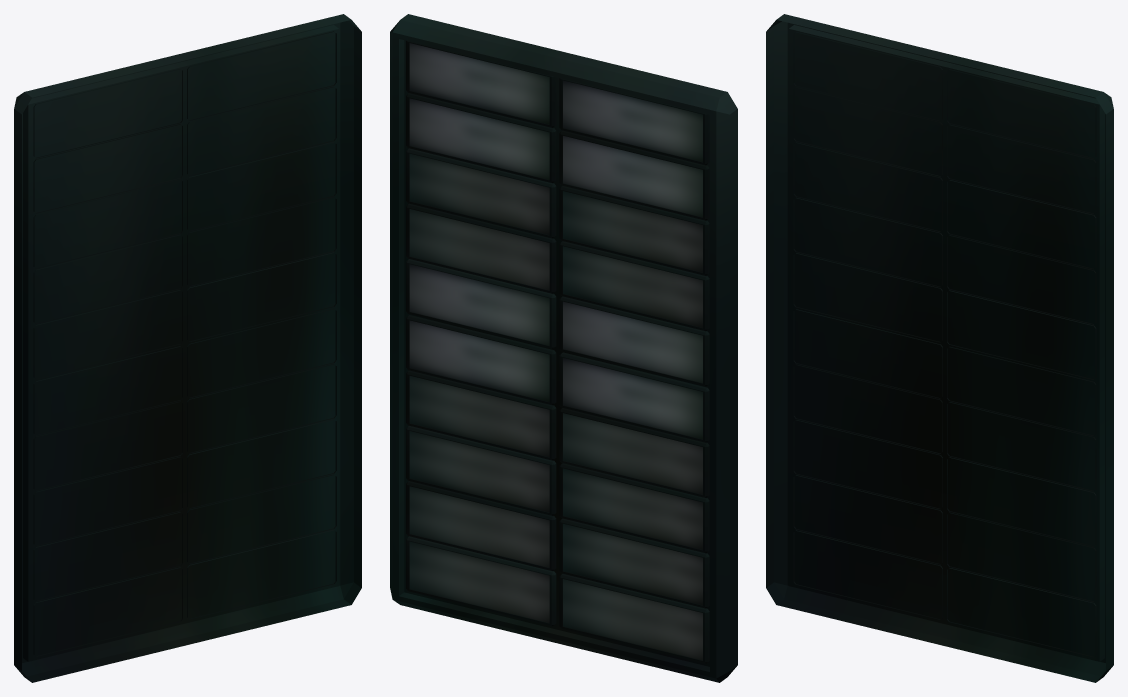
Rendered from warning.obj.
3 renders of one model, left to right at view 1: azimuth 30°, elevation 25°; view 2: azimuth 150°, elevation 25°; view 3: azimuth 330°, elevation 25°, orthographic.
Visible parts, largest first — view 1: fond, warn09, warn11, warn12, warn13, warn16, warn17, warn02, warn03, warn04, warn08, warn19 (+9 smaller); view 2: fond, warn11, warn12, warn06, warn19, warn04, warn10, warn08, warn09, warn13, warn14, warn15 (+9 smaller); view 3: fond, warn11, warn18, warn07, warn14, warn03, warn05, warn16, warn01, warn02, warn04, warn06 (+9 smaller).
Boxes of the visible parts, x1,y1,x2,y2 form: fond: [14, 14, 361, 682]; warn09: [187, 252, 336, 341]; warn11: [187, 308, 336, 397]; warn12: [33, 346, 182, 435]; warn13: [187, 364, 336, 453]; warn16: [33, 456, 182, 546]; warn17: [187, 474, 336, 563]; warn02: [33, 68, 182, 158]; warn03: [187, 86, 336, 175]; warn04: [33, 124, 182, 213]; warn08: [33, 234, 182, 323]; warn19: [187, 530, 336, 619]; fond: [390, 14, 737, 682]; warn11: [406, 315, 556, 405]; warn12: [559, 352, 709, 442]; warn06: [559, 186, 709, 275]; warn19: [406, 536, 556, 626]; warn04: [559, 130, 709, 220]; warn10: [559, 296, 709, 386]; warn08: [559, 241, 709, 331]; warn09: [406, 259, 556, 348]; warn13: [406, 370, 556, 460]; warn14: [559, 408, 709, 497]; warn15: [406, 426, 556, 515]; fond: [766, 14, 1113, 682]; warn11: [947, 346, 1096, 435]; warn18: [793, 475, 942, 564]; warn07: [947, 235, 1096, 324]; warn14: [793, 364, 942, 453]; warn03: [947, 124, 1096, 213]; warn05: [947, 180, 1096, 269]; warn16: [793, 420, 942, 509]; warn01: [947, 69, 1096, 158]; warn02: [793, 32, 942, 121]; warn04: [793, 87, 942, 176]; warn06: [793, 142, 942, 231].
Bounding box in the file's own units: 0.0608 × 0.1 × 0.0042.
1 material, 1 textured.
